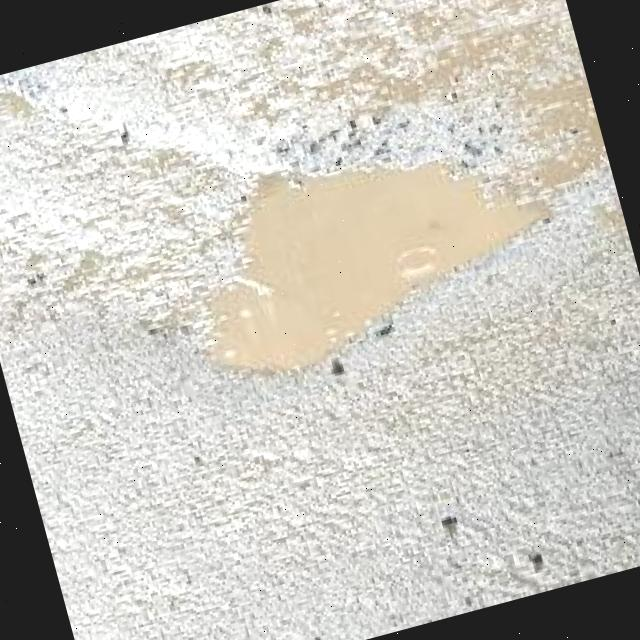stagnation: (138, 86, 590, 407)
